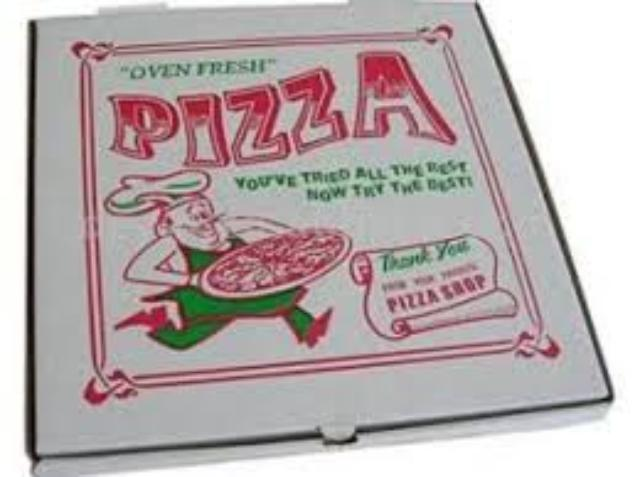cardboard paper: (25, 0, 608, 453)
